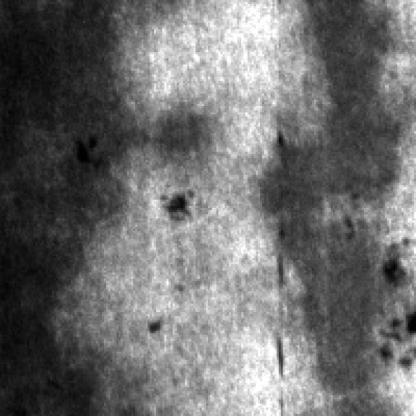inclusion: (374, 252, 416, 368), (158, 181, 206, 229)
patches: (2, 0, 144, 414), (276, 0, 396, 414)
